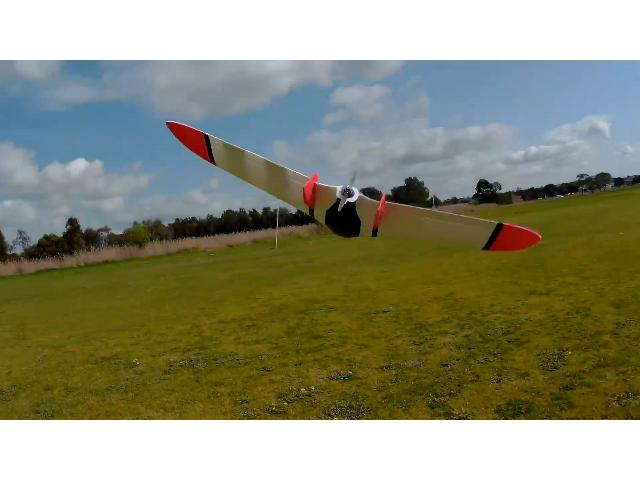Anti-Drone: (166, 120, 542, 252)
